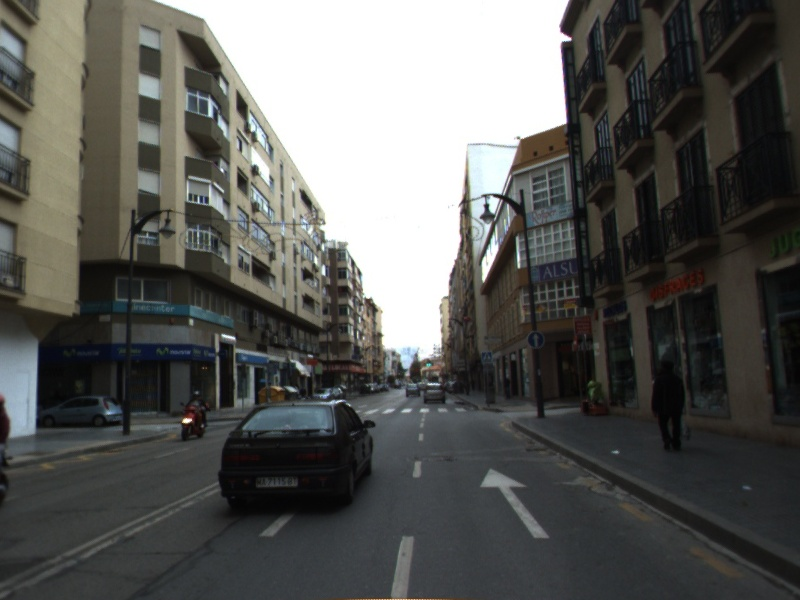STRAIGHT: (476, 465, 553, 542)
